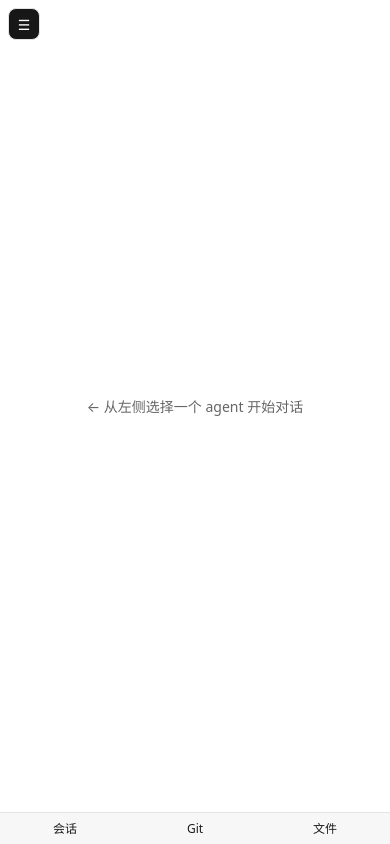
Scenario: App drawer overlay（反馈轮 25-A） › Esc closes the open drawer
The image size is (390, 844).
Click the button with class "sidebar-expand" at (24,24), box 8,8 -> 40,40
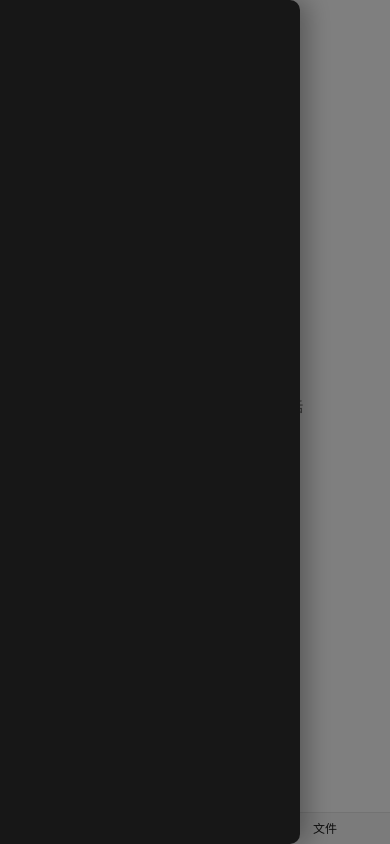
Expected: the element with class "drawer-overlay" is shown
Press Escape
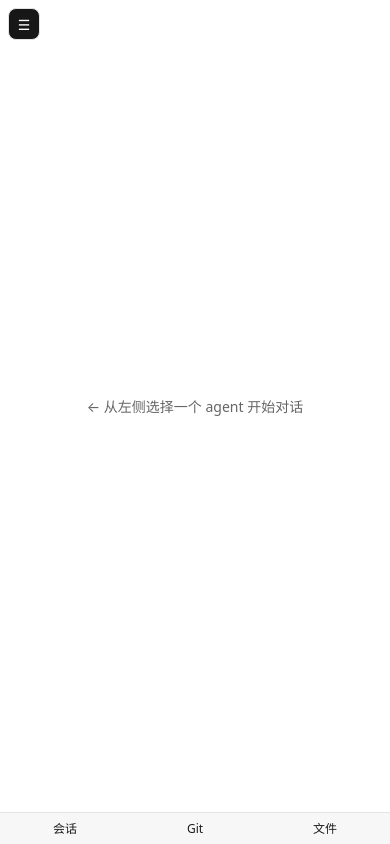
Expected: the element with class "drawer-overlay" is gone
